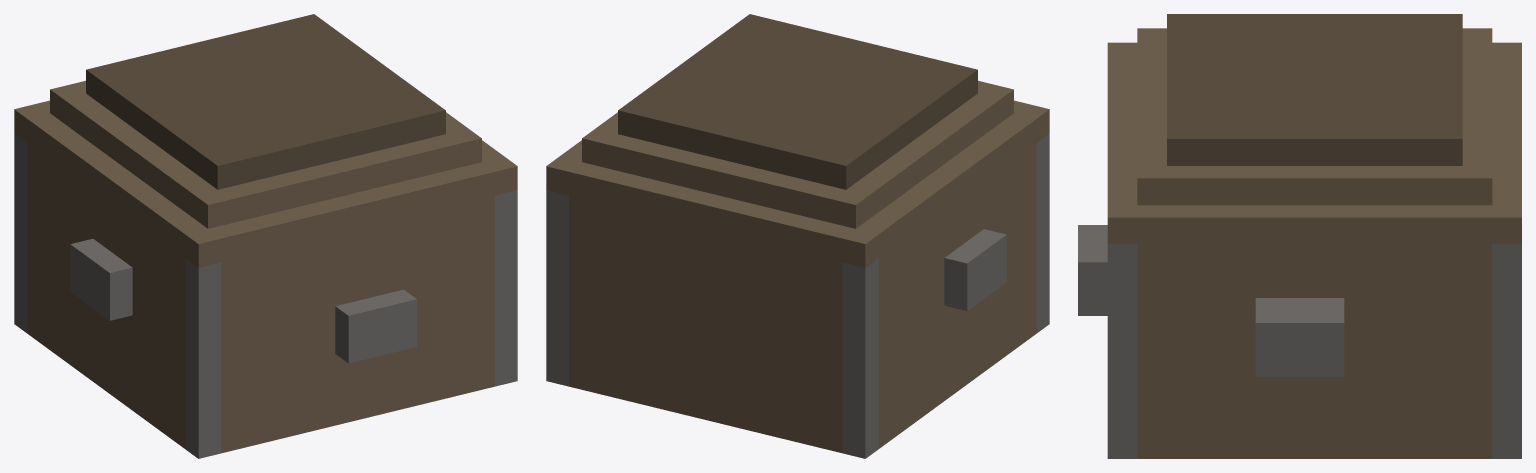
File: barril_brea_incendiaria_01.glb
3 renders of one model, left to right at view 1: azimuth 30°, elevation 25°; view 2: azimuth 150°, elevation 25°; view 3: azimuth 270°, elevation 25°, orthographic. The views are drawn at different scales.
Visible parts, largest first — view 1: barril_brea_incendiaria; view 2: barril_brea_incendiaria; view 3: barril_brea_incendiaria.
Boxes of the visible parts, x1=… form: barril_brea_incendiaria: x1=14, y1=14, x2=517, y2=458; barril_brea_incendiaria: x1=546, y1=14, x2=1049, y2=458; barril_brea_incendiaria: x1=1078, y1=14, x2=1521, y2=458.
Size of the model in its own units: 1.21 by 0.7857 by 1.07.
